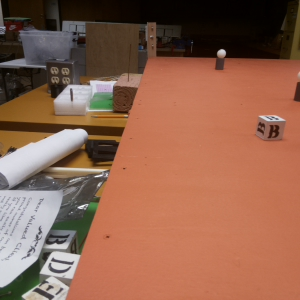blockB: (257, 113, 284, 142)
corner: (144, 21, 159, 60)
obstacle: (214, 48, 227, 72), (292, 70, 300, 103)
